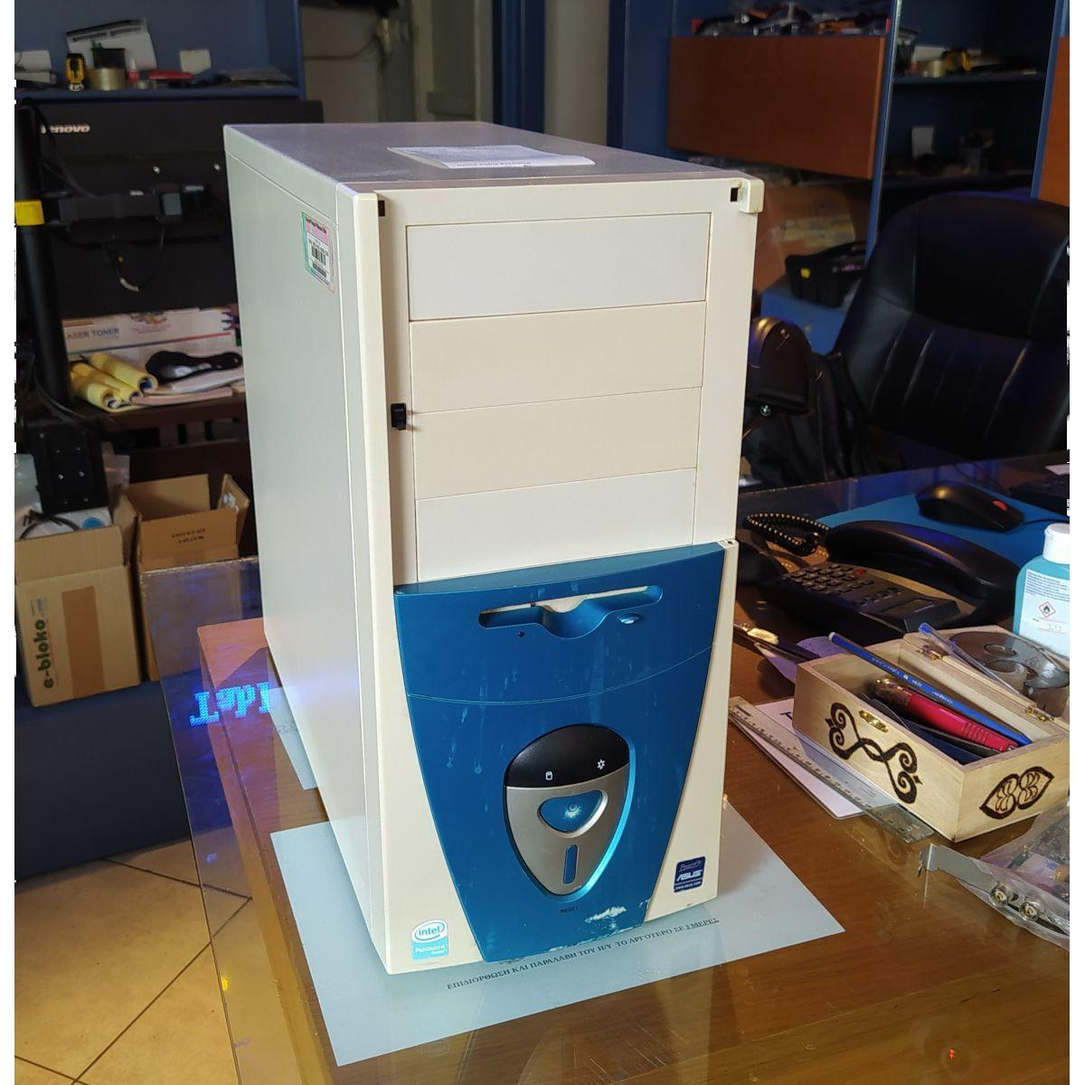DESKTOP PC: (223, 118, 757, 958)
